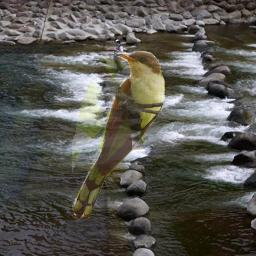Cuckoo: (72, 51, 165, 221)
